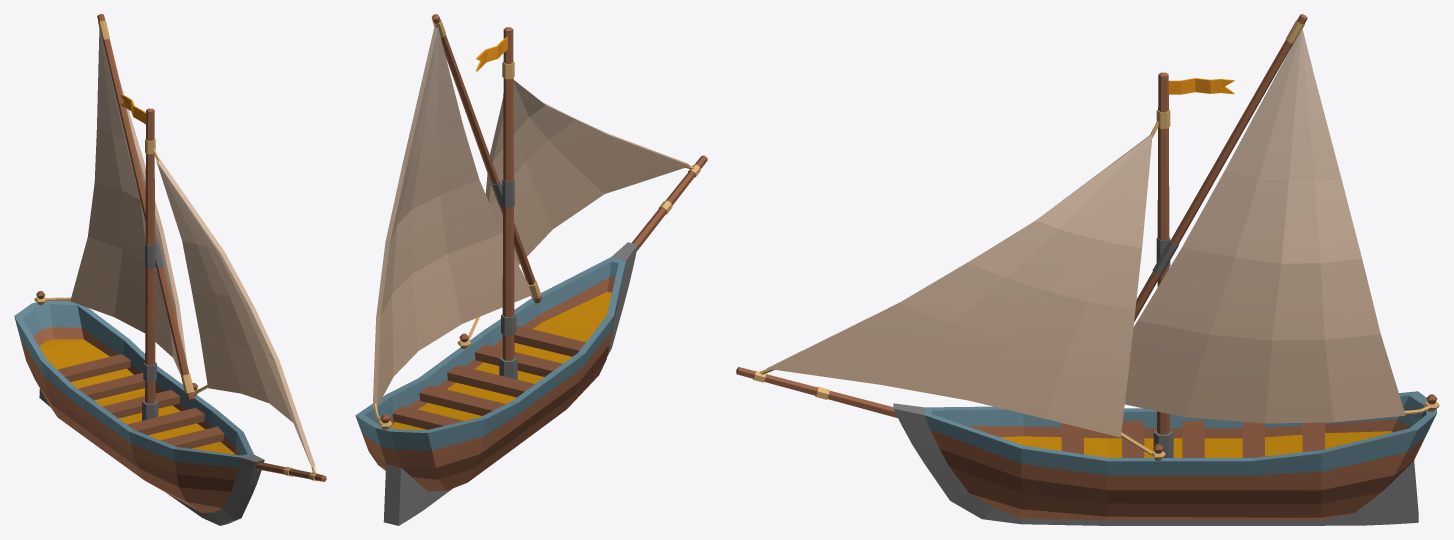
File: ship-small-4.glb
3 views of the same model, side by side, from view 1: azimuth 30°, elevation 25°; view 2: azimuth 150°, elevation 25°; view 3: azimuth 270°, elevation 25° (orthographic). The views are drawn at different scales.
Visible parts, largest first — view 1: ship small 4; view 2: ship small 4; view 3: ship small 4.
Part boxes in pixels (x1,y1,x2,y2): ship small 4: [14, 14, 326, 525]; ship small 4: [355, 14, 707, 525]; ship small 4: [736, 14, 1439, 525].
Size of the model in its own units: 3.78 by 16.64 by 20.7.
Materials: 1 (1 with a texture image).
